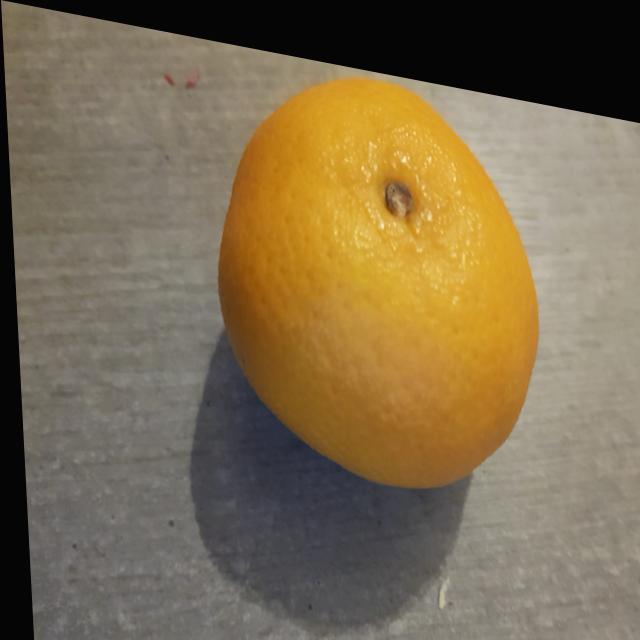Orange: (213, 62, 535, 475)
